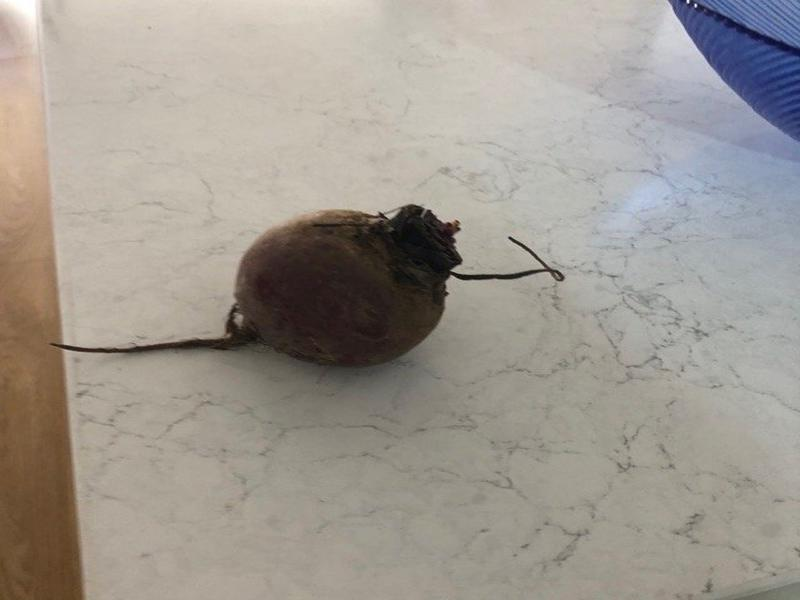Beet: (44, 207, 563, 366)
